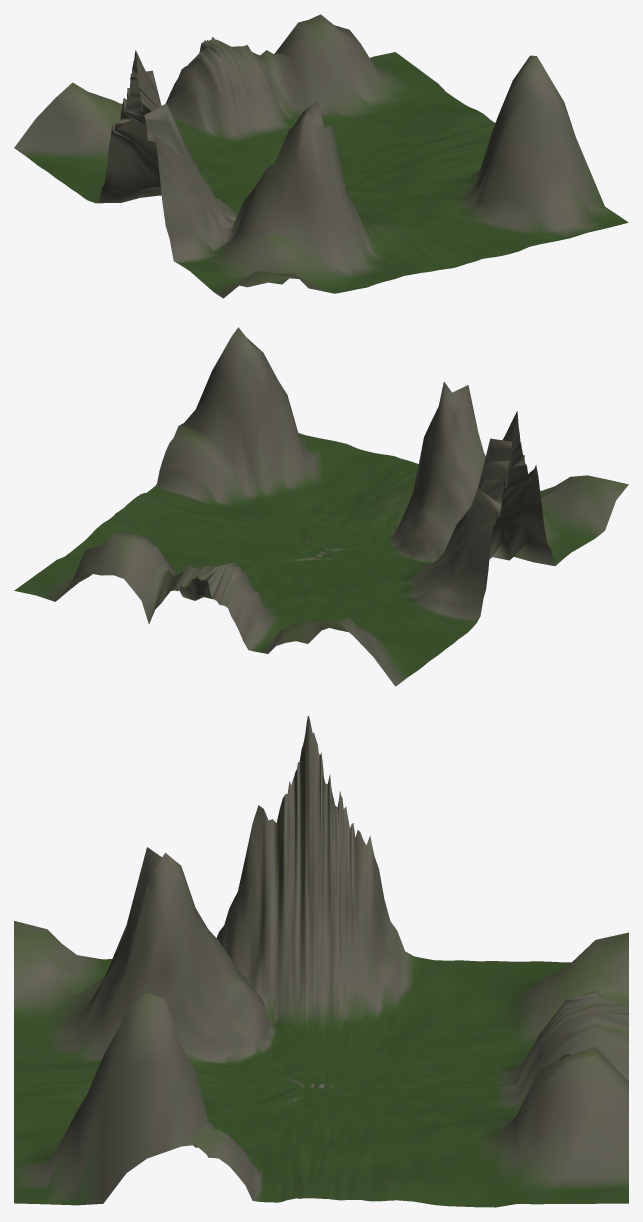
3 views of the same model, one above another, from view 1: azimuth 30°, elevation 25°; view 2: azimuth 150°, elevation 25°; view 3: azimuth 270°, elevation 25° (orthographic). The views are drawn at different scales.
Visible parts, largest first — view 1: terrain-ch03; view 2: terrain-ch03; view 3: terrain-ch03.
Boxes of the visible parts, bbox=[...] form: terrain-ch03: bbox=[14, 14, 628, 298]; terrain-ch03: bbox=[14, 327, 628, 686]; terrain-ch03: bbox=[14, 716, 628, 1207].
Size of the model in its own units: 2819 by 1363 by 2987.
